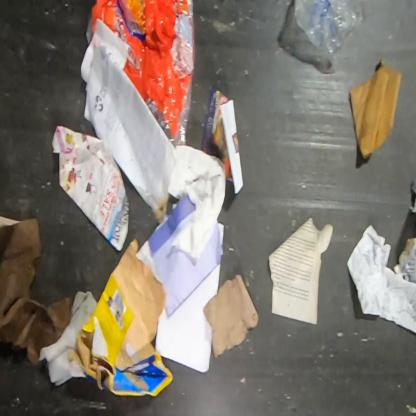cardboard: (67, 238, 174, 397), (0, 215, 73, 367), (350, 59, 402, 159)
soft_plastic: (85, 0, 196, 149), (294, 0, 366, 74)
